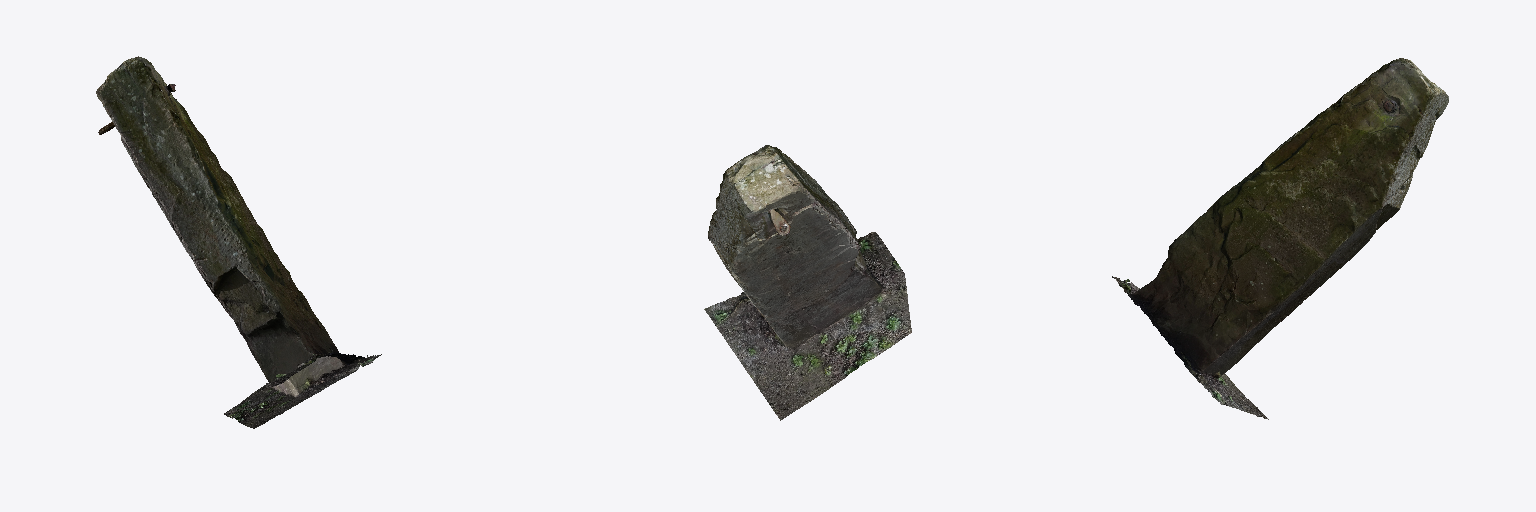
3 views of the same model, side by side, from view 1: azimuth 30°, elevation 25°; view 2: azimuth 150°, elevation 25°; view 3: azimuth 270°, elevation 25° (orthographic).
Parts seen in each view (by area): view 1: Tullaherin_II; view 2: Tullaherin_II; view 3: Tullaherin_II.
Part boxes in pixels (bbox=[...]): Tullaherin_II: bbox=[96, 56, 381, 428]; Tullaherin_II: bbox=[704, 145, 911, 420]; Tullaherin_II: bbox=[1112, 58, 1448, 419].
Size of the model in its own units: 5.54 by 9.31 by 8.54.
1 materials, 1 textured.